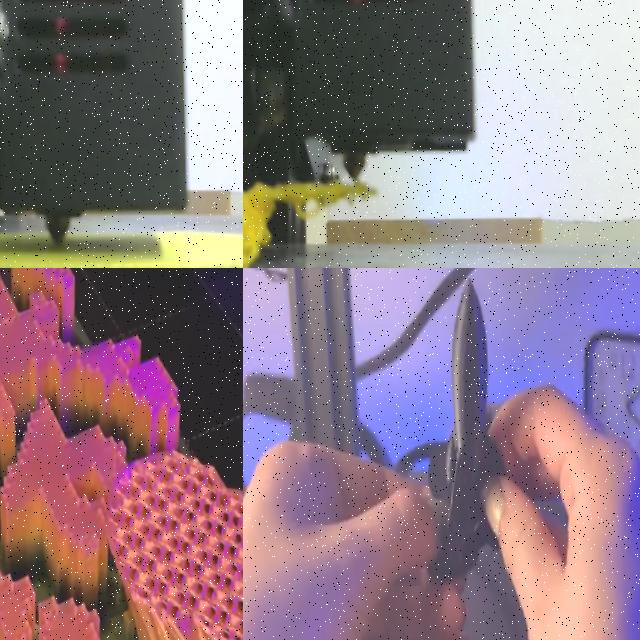spaghetti: (243, 182, 374, 268)
